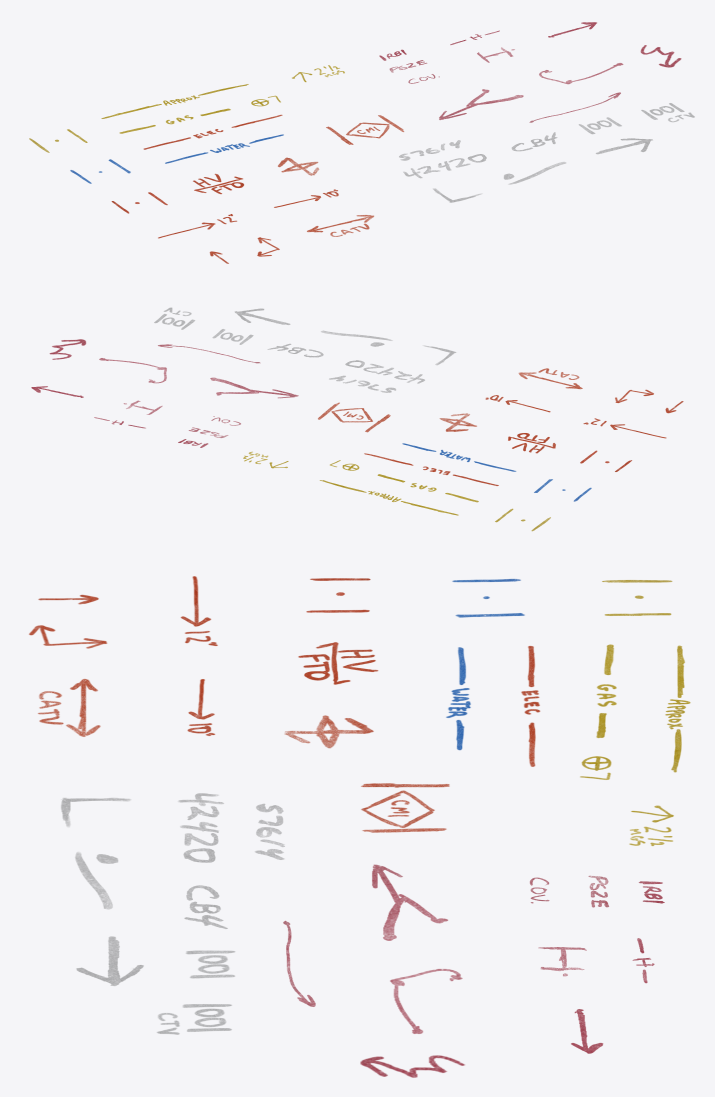
Rendered from utility_marking_decals.glb.
The picture shows the model from 3 angles, top to bottom: view 1: azimuth 30°, elevation 25°; view 2: azimuth 150°, elevation 25°; view 3: azimuth 270°, elevation 25°; orthographic projection. The views are drawn at different scales.
Visible parts, largest first — view 1: utilityMarking00e; view 2: utilityMarking00e, utilityMarkingArrow01a, utilityMarking04a; view 3: utilityMarking00e, utilityMarking04a, utilityMarkingArrow01a, utilityMarking00b, utilityMarking01b, utilityMarkingArrow00e, utilityMarking04e, utilityMarking00d, utilityMarking02b, utilityMarking04h, utilityMarking00c.
Part boxes in pixels (x1,y1,x2,y2): utilityMarking00e: [326, 115, 403, 144]; utilityMarking00e: [318, 402, 390, 432]; utilityMarkingArrow01a: [210, 377, 298, 398]; utilityMarking04a: [345, 360, 424, 383]; utilityMarking00e: [361, 783, 449, 832]; utilityMarking04a: [178, 793, 223, 862]; utilityMarkingArrow01a: [372, 864, 447, 940]; utilityMarking00b: [298, 642, 378, 684]; utilityMarking01b: [665, 645, 690, 772]; utilityMarkingArrow00e: [38, 679, 100, 736]; utilityMarking04e: [157, 1004, 231, 1034]; utilityMarking00d: [285, 715, 373, 748]; utilityMarking02b: [446, 647, 470, 750]; utilityMarking04h: [76, 936, 143, 985]; utilityMarking00c: [521, 646, 540, 766].
Size of the model in its own units: 16.99 by 0.00017 by 9.53.
Materials: 1 (1 with a texture image).
